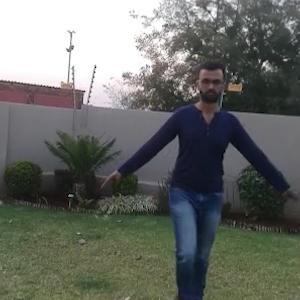land: (117, 71, 285, 299)
